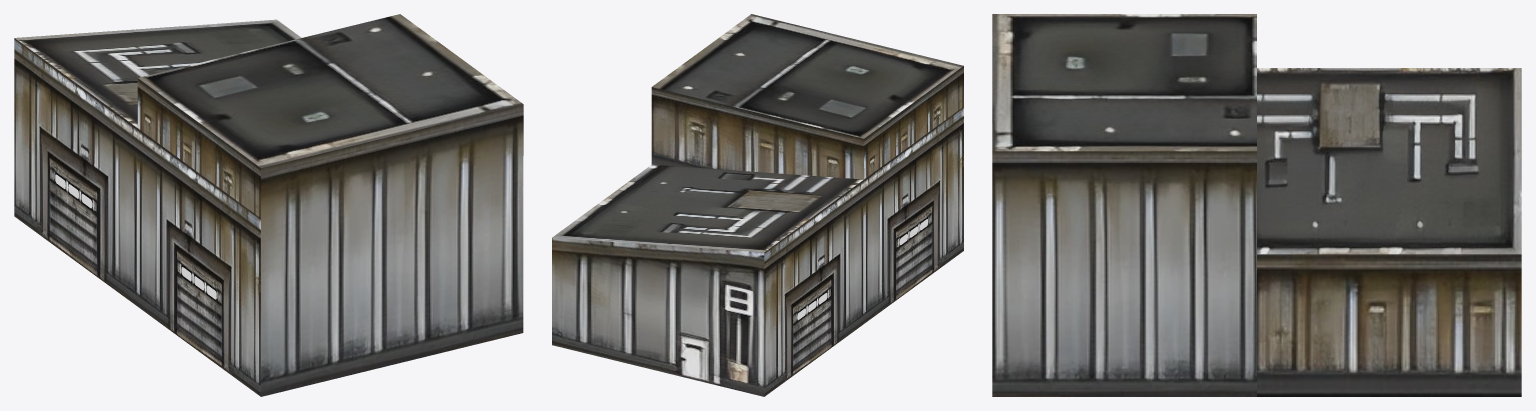
The model's file is factorymd_hdtex.glb.
3 views of the same model, side by side, from view 1: azimuth 30°, elevation 25°; view 2: azimuth 150°, elevation 25°; view 3: azimuth 270°, elevation 25° (orthographic). The views are drawn at different scales.
Parts seen in each view (by area): view 1: Box1, LitWin; view 2: Box1, LitWin; view 3: Box1.
Part boxes in pixels (x1,y1,x2,y2): Box1: (14,14,523,396); LitWin: (55,174,216,299); Box1: (552,14,963,396); LitWin: (797,219,927,320); Box1: (992,14,1521,396).
Bounding box in the file's own units: 15.49 × 12.9 × 25.2.
2 materials, 2 textured.
